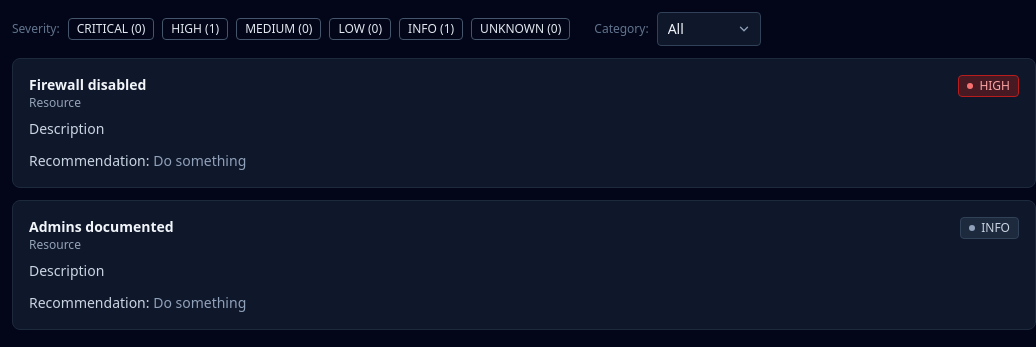
Test: SecurityResults › filters findings by severity and category
The image size is (1036, 347).
Click the button with aria-label "HIGH: 1 finding" at (195, 29), box [162,18,228,40]
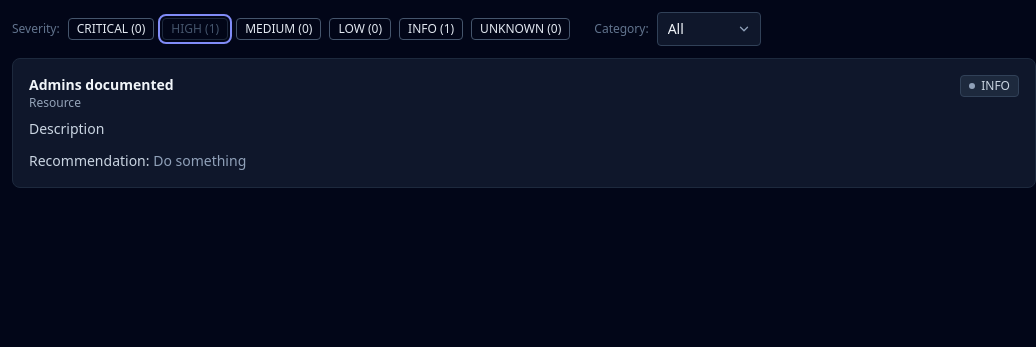
Expected: the heading "Admins documented" is shown, [29,75,174,95]
Expected: the heading "Firewall disabled" is gone
Click the button with aria-label "HIGH: 1 finding" at (195, 29), box [162,18,228,40]
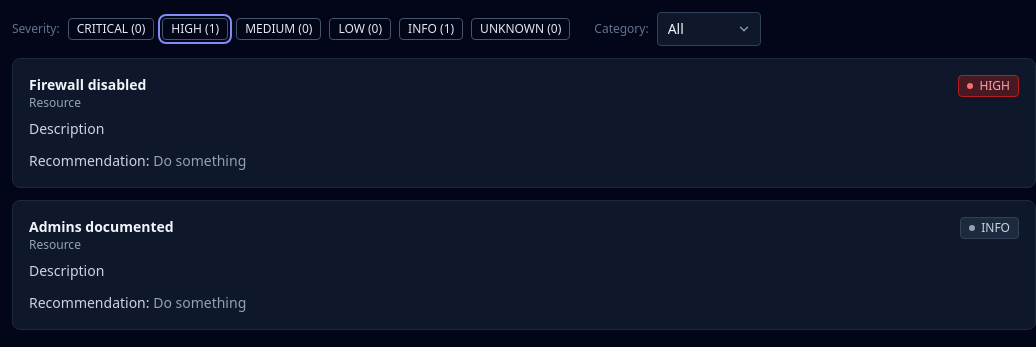
Select "Accounts" in the dropdown named "Category filter" at (709, 29), box [657,12,761,46]
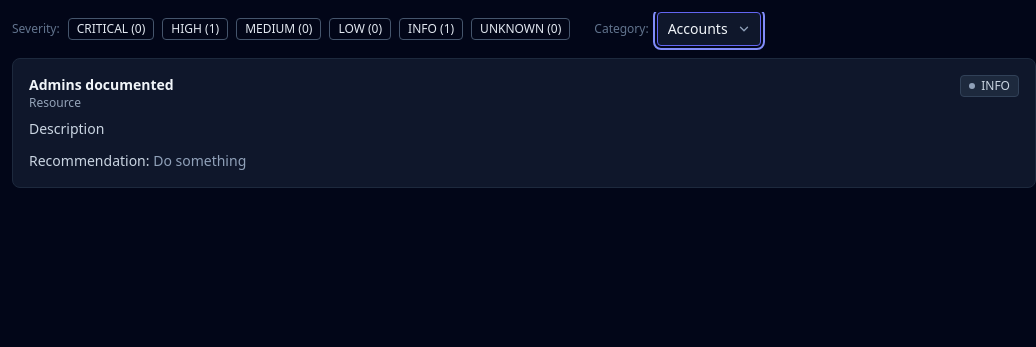
Expected: the heading "Admins documented" is shown, [29,75,174,95]
Expected: the heading "Firewall disabled" is gone
